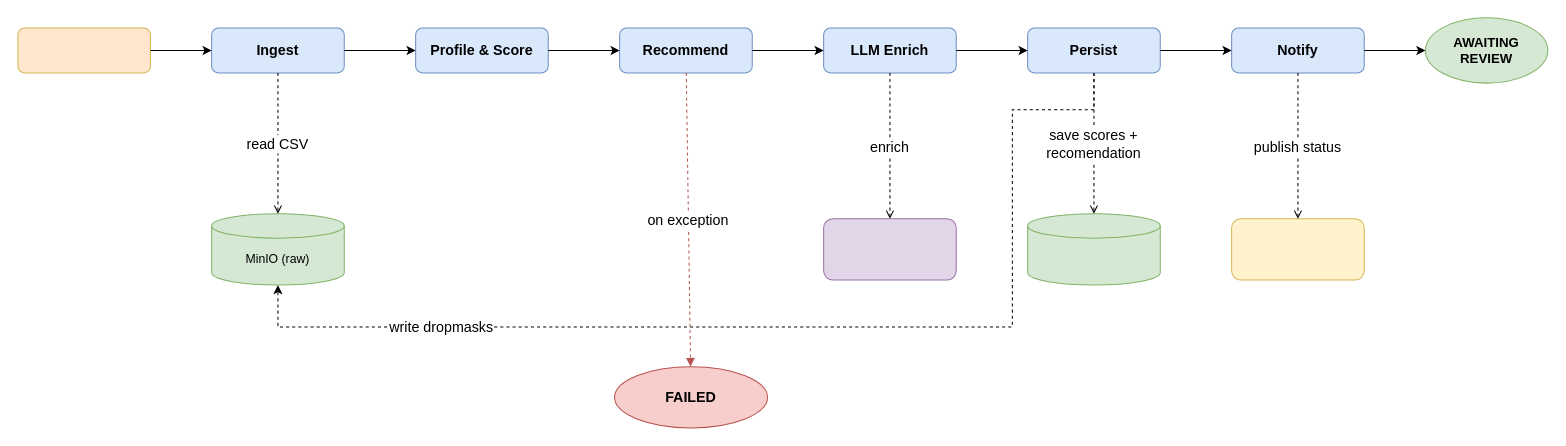
Image size: 1566x446. Some labels were removed from this diagram. The centre of each missing label's shape, as x and y in pixels:
"Groq LLM (Llama 3.3 70B)" goes at (x=889, y=249).
"PostgreSQL" goes at (x=1093, y=249).
"Redis Pub/Sub" goes at (x=1297, y=249).
"Redis Worker" goes at (x=83, y=50).
